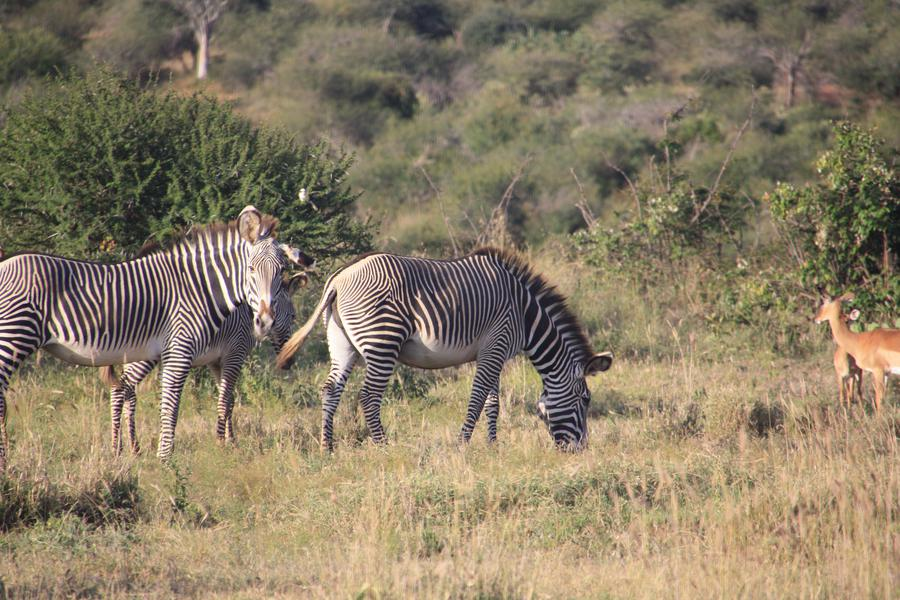zebra_grevys: (325, 262, 509, 355)
